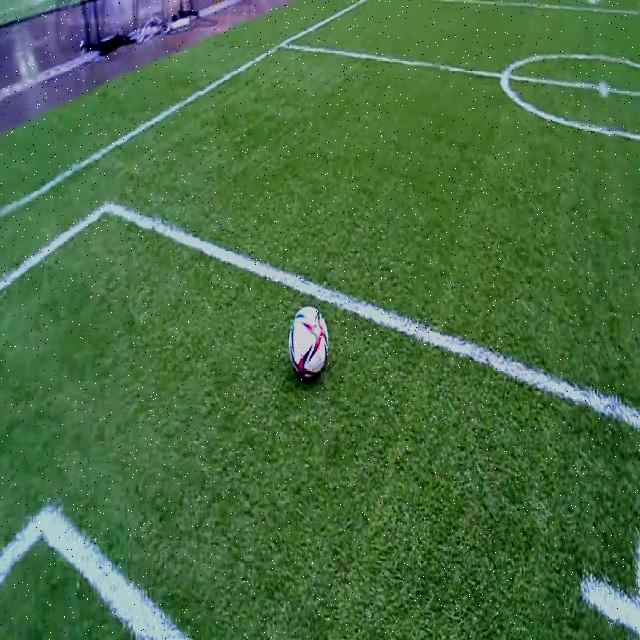ball: (289, 307, 328, 377)
